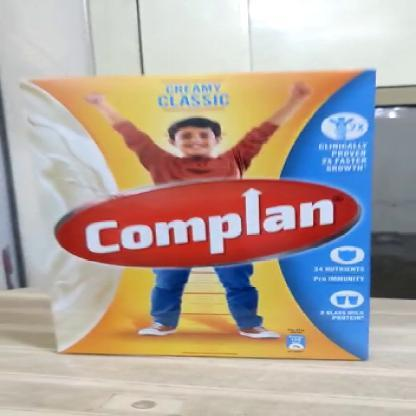Complan Classic Creme: (34, 63, 369, 357)
